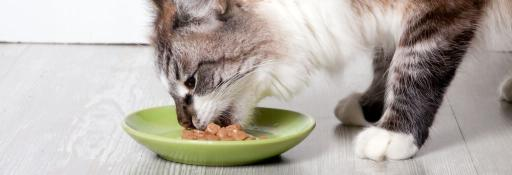cat_eating: (122, 0, 512, 165)
